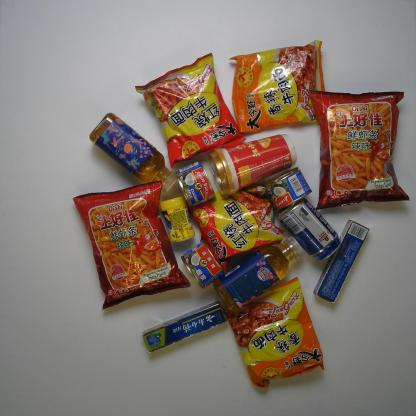Alcohol: (277, 196, 342, 262)
Canned Food: (180, 240, 225, 289), (264, 167, 312, 211), (175, 160, 216, 208)
Drink: (88, 112, 178, 194), (213, 236, 304, 313)
Gum: (160, 195, 195, 243)
Instant Drink: (208, 134, 297, 196)
Instant Noodles: (134, 52, 246, 169), (221, 276, 325, 388), (229, 40, 325, 134), (187, 185, 285, 274)
Personal Hygiene: (312, 218, 370, 304), (142, 300, 228, 354)
Puffed Food: (72, 180, 191, 310), (308, 90, 411, 210)
